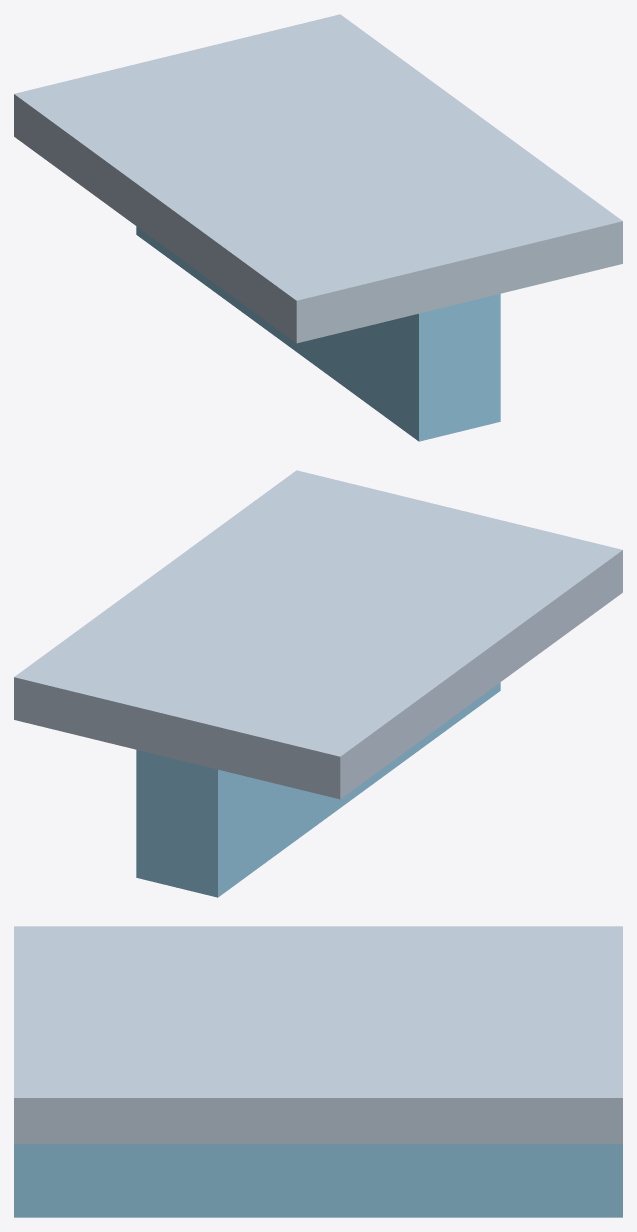
File: rcc_flanged_t_beam_design.glb
3 renders of one model, top to bottom at view 1: azimuth 30°, elevation 25°; view 2: azimuth 150°, elevation 25°; view 3: azimuth 270°, elevation 25°, orthographic. The views are drawn at different scales.
Parts seen in each view (by area): view 1: TBeamCompressiveFlangeSlab, TBeamWebStemRib; view 2: TBeamCompressiveFlangeSlab, TBeamWebStemRib; view 3: TBeamCompressiveFlangeSlab, TBeamWebStemRib.
Boxes of the visible parts, x1,y1,x2,y2 form: TBeamCompressiveFlangeSlab: (14, 14, 622, 343); TBeamWebStemRib: (136, 226, 500, 441); TBeamCompressiveFlangeSlab: (14, 470, 622, 799); TBeamWebStemRib: (136, 682, 500, 897); TBeamCompressiveFlangeSlab: (14, 926, 622, 1143); TBeamWebStemRib: (14, 1144, 622, 1217).
Size of the model in its own units: 1.2 by 0.6 by 1.8.
